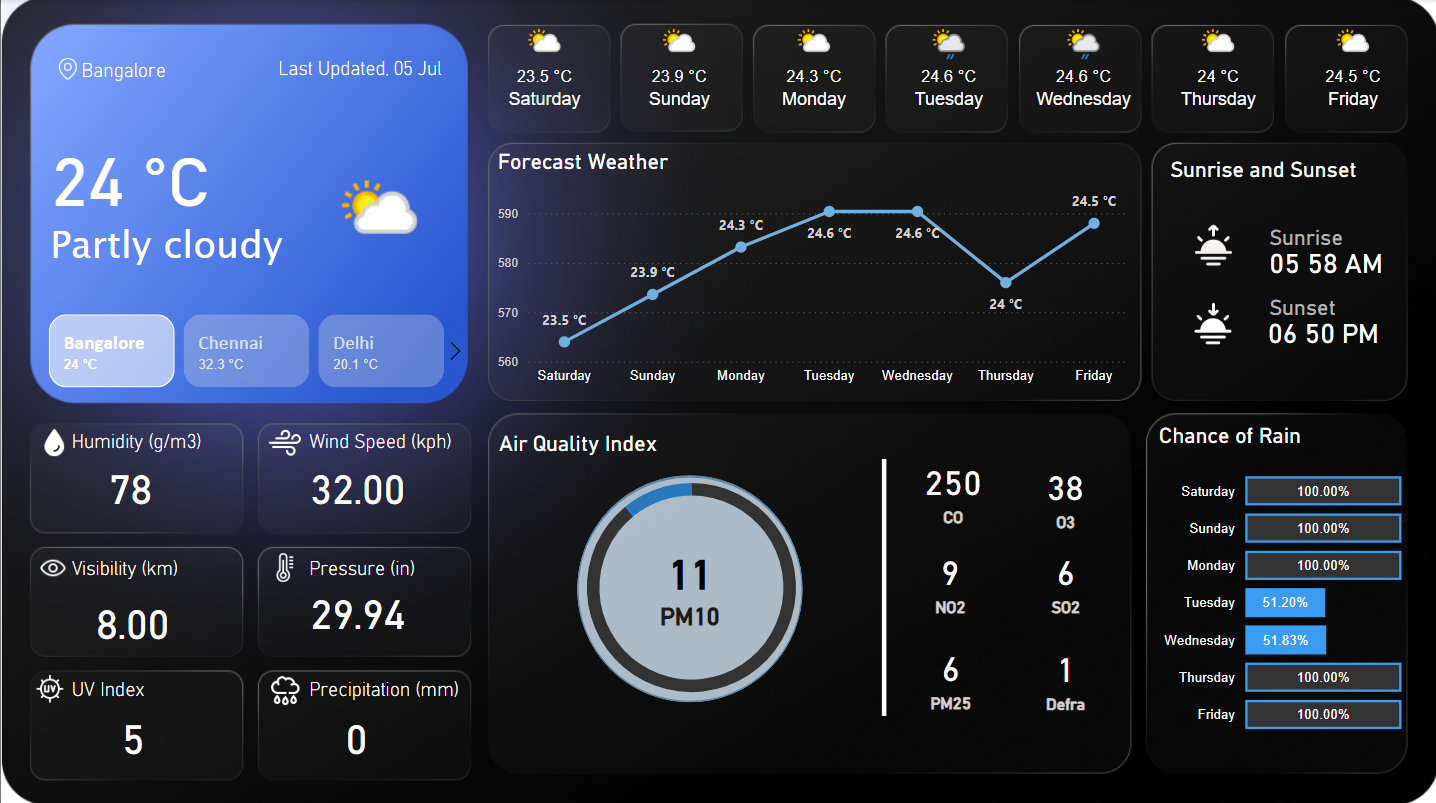

What the dashboard file says about the page in this screenshot:
{"tool":"powerbi","page":{"name":"Page 1","canvas":[1280,720],"ordinal":0},"visuals":[{"type":"advancedSlicerVisual","fields":{"Values":["Locations.location.name"]},"box":[17.5,276.2,402.5,75],"z":0},{"type":"shape","box":[36.2,106.2,222.5,112.5],"z":1000},{"type":"shape","box":[36.2,170,403.8,97.5],"z":2000},{"type":"shape","box":[67.5,36.2,110,52.5],"z":3000},{"type":"shape","box":[237.7,35,158,53.1],"z":4000},{"type":"image","box":[26.2,47.5,66.2,28.8],"z":5000},{"type":"cardVisual","fields":{"Data":["Min(current.current.condition.icon)"]},"box":[270.9,133.3,124.9,106.7],"z":6000},{"type":"image","box":[26.7,488.4,39.3,36.5],"z":7000},{"type":"shape","box":[58.9,480,158.6,53.3],"z":8000},{"type":"shape","box":[270.9,367.7,158.6,53.3],"z":9000},{"type":"image","box":[26.7,377.5,42.1,35.1],"z":10000},{"type":"shape","box":[58.9,367.7,158.6,53.3],"z":11000},{"type":"image","box":[230.2,374.7,45,40],"z":12000},{"type":"shape","box":[270.9,480,158.6,53.3],"z":13000},{"type":"shape","box":[270.9,588.1,158.6,53.3],"z":14000},{"type":"shape","box":[58.9,588.1,158.6,53.3],"z":15000},{"type":"image","box":[230.2,595.1,44.9,40.7],"z":16000},{"type":"image","box":[21.1,596.5,44.9,35],"z":17000},{"type":"image","box":[230.2,488.4,44.9,35.1],"z":18000},{"type":"card","fields":{"Values":["Sum(current.current.humidity)"]},"box":[50.5,390.2,130.5,85.6],"z":19000},{"type":"card","fields":{"Values":["Sum(current.current.wind_kph)"]},"box":[252.6,390.2,130.5,85.6],"z":20000},{"type":"card","fields":{"Values":["Sum(current.current.pressure_in)"]},"box":[252.6,502.5,130.5,85.6],"z":21000},{"type":"card","fields":{"Values":["Sum(current.current.precip_mm)"]},"box":[251.2,613.3,130.5,85.6],"z":22000},{"type":"card","fields":{"Values":["Sum(current.current.vis_km)"]},"box":[51.9,510.9,130.5,85.6],"z":23000},{"type":"card","fields":{"Values":["Sum(current.current.uv)"]},"box":[51.9,613.3,130.5,85.6],"z":24000},{"type":"advancedSlicerVisual","fields":{"Values":["forecast_day.Day_Name"]},"box":[422.5,15.4,844.9,101.1],"z":25000},{"type":"lineChart","title":"Forecast Weather","fields":{"Y":["Sum(forecast_day.forecast.forecastday.day.avgtemp_c)"],"Category":["forecast_day.Day_Name"]},"box":[437.9,133.3,572.6,217.5],"z":26000},{"type":"shape","box":[1038.6,133.3,211.9,36.5],"z":27000},{"type":"shape","box":[1047,169.8,221.8,112.3],"z":28000},{"type":"shape","box":[1124.2,178.2,124.9,68.8],"z":29000},{"type":"shape","box":[1124.6,240.6,125.3,68.5],"z":30000},{"type":"shape","box":[1124.2,200.7,124.9,68.8],"z":31000},{"type":"shape","box":[1122.9,262.3,125.3,68.5],"z":32000},{"type":"image","box":[1049.8,193.7,60.4,50.5],"z":33000},{"type":"image","box":[1049.8,263.9,60.4,50.5],"z":34000},{"type":"hundredPercentStackedBarChart","title":"Chance of Rain","fields":{"Category":["forecast_day.Day_Name"],"Y":["Sum(forecast_day.forecast.forecastday.day.daily_chance_of_rain)","_Measures.left_value_rain"]},"box":[1026,377.5,226,291.9],"z":35000},{"type":"shape","box":[440.7,377.5,211.9,36.5],"z":36000},{"type":"card","fields":{"Values":["Sum(current.current.air_quality.co)"]},"box":[800,400,95.4,75.8],"z":37000},{"type":"card","fields":{"Values":["Sum(current.current.air_quality.gb-defra-index)"]},"box":[906.7,568.4,84.2,70.2],"z":38000},{"type":"shape","box":[513,424.4,200.5,202.2],"z":38250},{"type":"shape","box":[513.7,425.3,200.7,200.7],"z":38500},{"type":"card","fields":{"Values":["Sum(current.current.air_quality.no2)"]},"box":[797.2,481.4,96.8,74.4],"z":39000},{"type":"card","fields":{"Values":["Sum(current.current.air_quality.o3)"]},"box":[906.7,400,84.2,85.6],"z":40000},{"type":"card","fields":{"Values":["Sum(current.current.air_quality.pm2_5)"]},"box":[800,565.6,91.2,75.8],"z":42000},{"type":"card","fields":{"Values":["Sum(current.current.air_quality.so2)"]},"box":[906.7,481.4,84.2,74.4],"z":43000},{"type":"shape","box":[738.2,409.8,96.8,228.8],"z":44000},{"type":"donutChart","fields":{"Y":["_Measures.left_pm10","Sum(current.current.air_quality.pm10)"]},"box":[482.8,402.8,263.9,242.8],"z":45000},{"type":"card","fields":{"Values":["Sum(current.current.air_quality.pm10)"]},"box":[548.1,467.9,132,108.6],"z":45500}]}

Visuals, with their boxes in screenshot pixels (x1, y1, x2, y2), scaled from the page's 1280x720 canvas onto the 1436x803 screenshot:
advancedSlicerVisual - Locations.location.name: <box>20,308,471,392</box>
shape: <box>41,118,290,244</box>
shape: <box>41,190,494,298</box>
shape: <box>76,40,199,99</box>
shape: <box>267,39,444,98</box>
image: <box>29,53,104,85</box>
cardVisual - Min(current.current.condition.icon): <box>304,149,444,268</box>
image: <box>30,545,74,585</box>
shape: <box>66,535,244,595</box>
shape: <box>304,410,482,470</box>
image: <box>30,421,77,460</box>
shape: <box>66,410,244,470</box>
image: <box>258,418,309,463</box>
shape: <box>304,535,482,595</box>
shape: <box>304,656,482,715</box>
shape: <box>66,656,244,715</box>
image: <box>258,664,309,709</box>
image: <box>24,665,74,704</box>
image: <box>258,545,309,584</box>
card - Sum(current.current.humidity): <box>57,435,203,531</box>
card - Sum(current.current.wind_kph): <box>283,435,430,531</box>
card - Sum(current.current.pressure_in): <box>283,560,430,656</box>
card - Sum(current.current.precip_mm): <box>282,684,428,779</box>
card - Sum(current.current.vis_km): <box>58,570,205,665</box>
card - Sum(current.current.uv): <box>58,684,205,779</box>
advancedSlicerVisual - forecast_day.Day_Name: <box>474,17,1422,130</box>
"Forecast Weather" lineChart: <box>491,149,1134,391</box>
shape: <box>1165,149,1403,189</box>
shape: <box>1175,189,1423,315</box>
shape: <box>1261,199,1401,275</box>
shape: <box>1262,268,1402,345</box>
shape: <box>1261,224,1401,301</box>
shape: <box>1260,293,1400,369</box>
image: <box>1178,216,1246,272</box>
image: <box>1178,294,1246,351</box>
"Chance of Rain" hundredPercentStackedBarChart: <box>1151,421,1405,747</box>
shape: <box>494,421,732,462</box>
card - Sum(current.current.air_quality.co): <box>898,446,1005,531</box>
card - Sum(current.current.air_quality.gb-defra-index): <box>1017,634,1112,712</box>
shape: <box>576,473,800,699</box>
shape: <box>576,474,801,698</box>
card - Sum(current.current.air_quality.no2): <box>894,537,1003,620</box>
card - Sum(current.current.air_quality.o3): <box>1017,446,1112,542</box>
card - Sum(current.current.air_quality.pm2_5): <box>898,631,1000,715</box>
card - Sum(current.current.air_quality.so2): <box>1017,537,1112,620</box>
shape: <box>828,457,937,712</box>
donutChart - _Measures.left_pm10 x Sum(current.current.air_quality.pm10): <box>542,449,838,720</box>
card - Sum(current.current.air_quality.pm10): <box>615,522,763,643</box>
